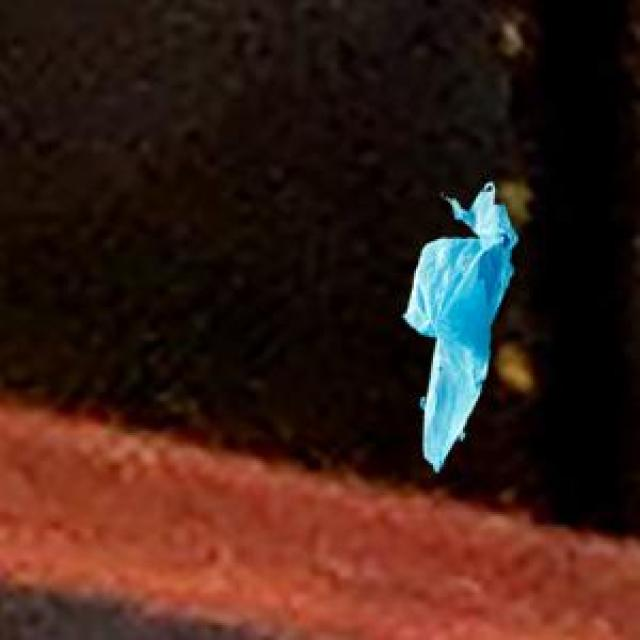plastic: (348, 137, 555, 495)
